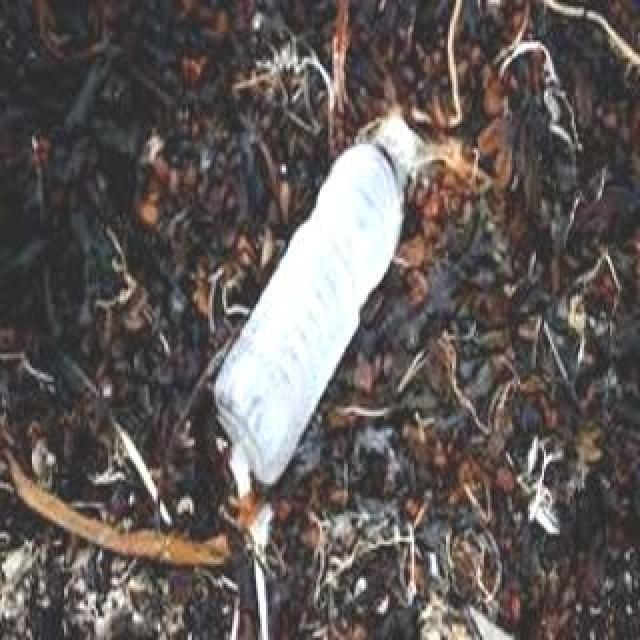Pet_Bottle: (202, 107, 420, 489)
